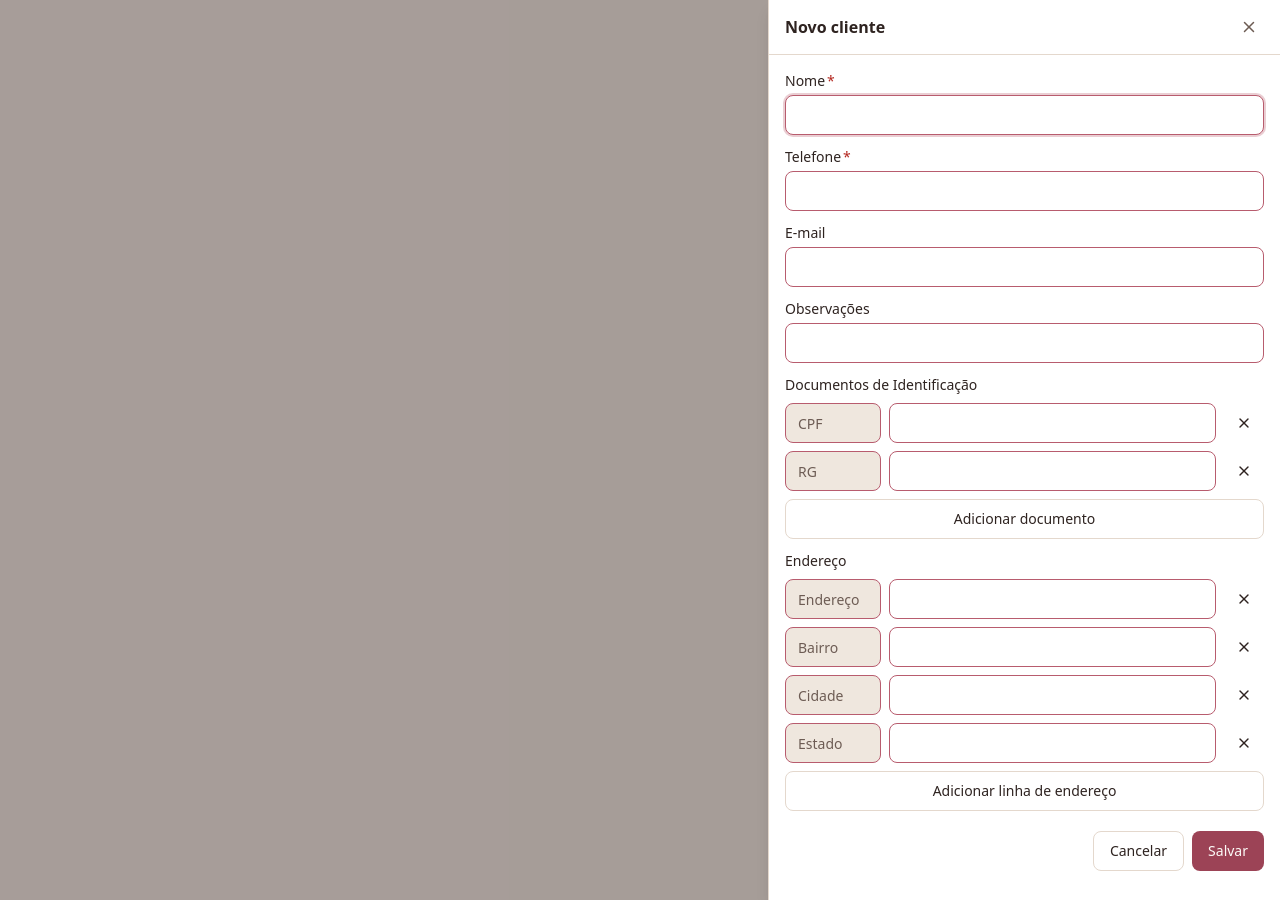
Test case: ClientDrawer › keeps the drawer and the typed value when Continuar editando is chosen
Step 1. Type "Nova Cliente" into the field labelled "Nome" → (1024, 115), box [785,95,1264,135]
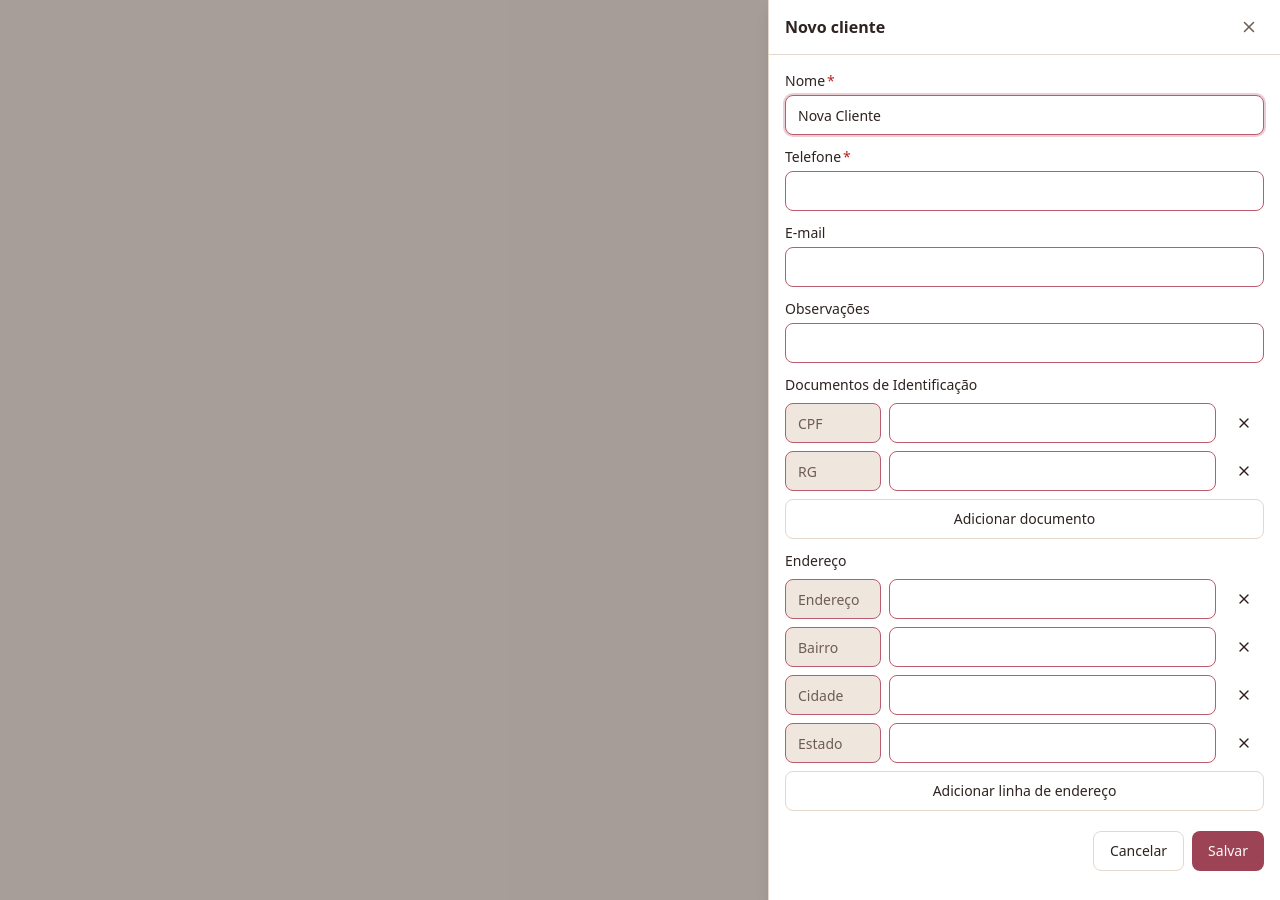
Step 2. Click the button "Cancelar" → (1138, 851), box [1093,831,1184,871]
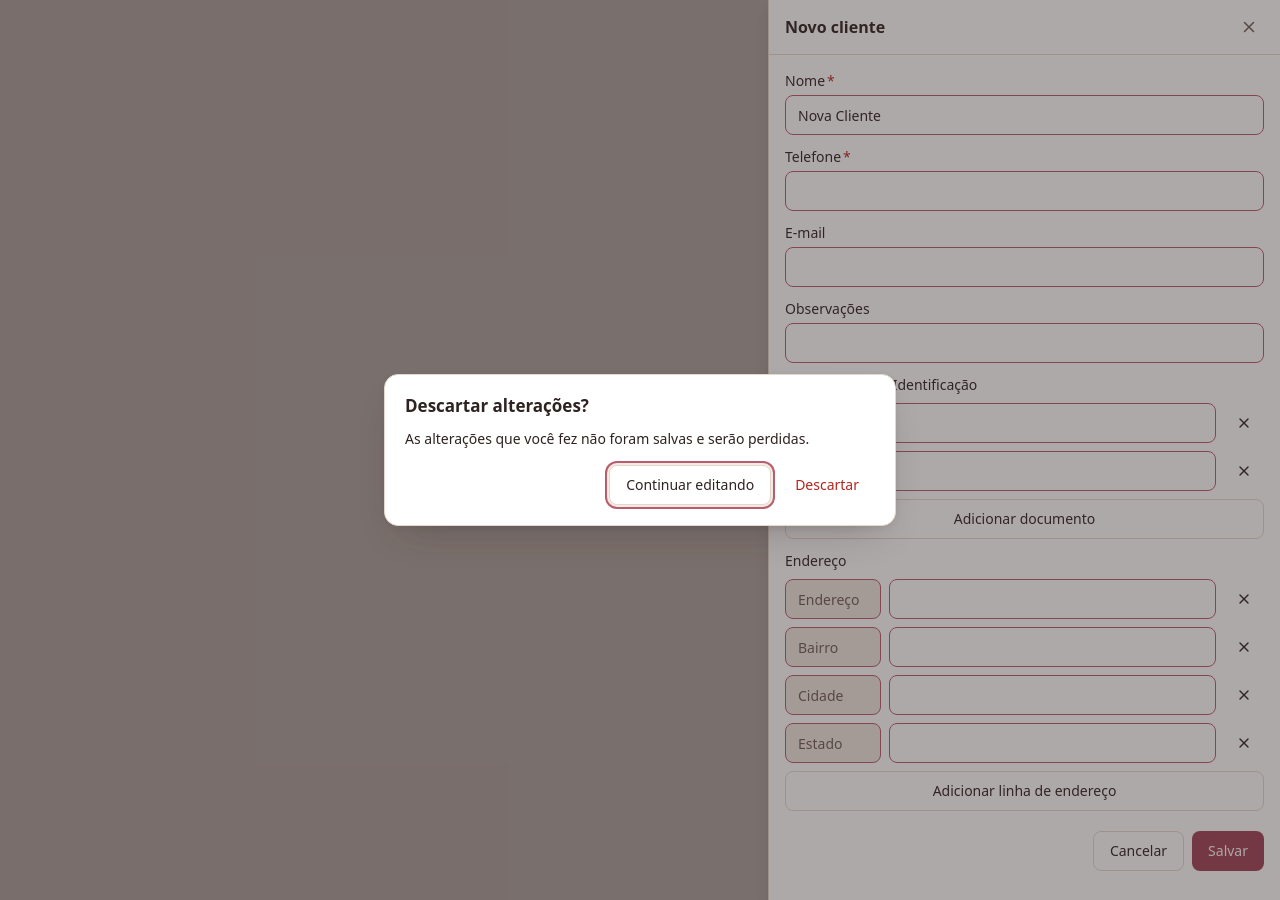
Step 3. Click the button "Continuar editando" → (690, 485), box [609,465,771,505]
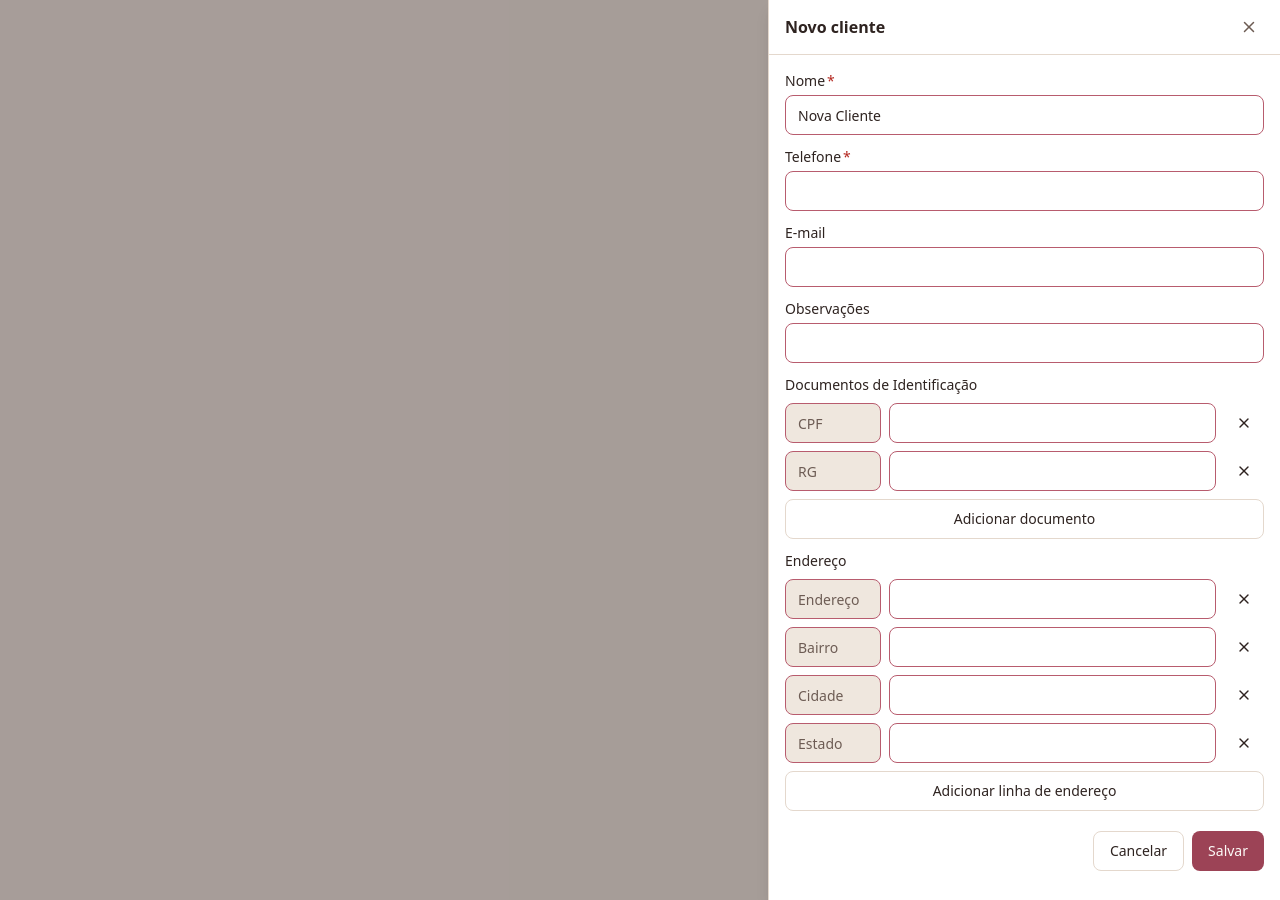
Now the heading "Descartar alterações?" is gone
